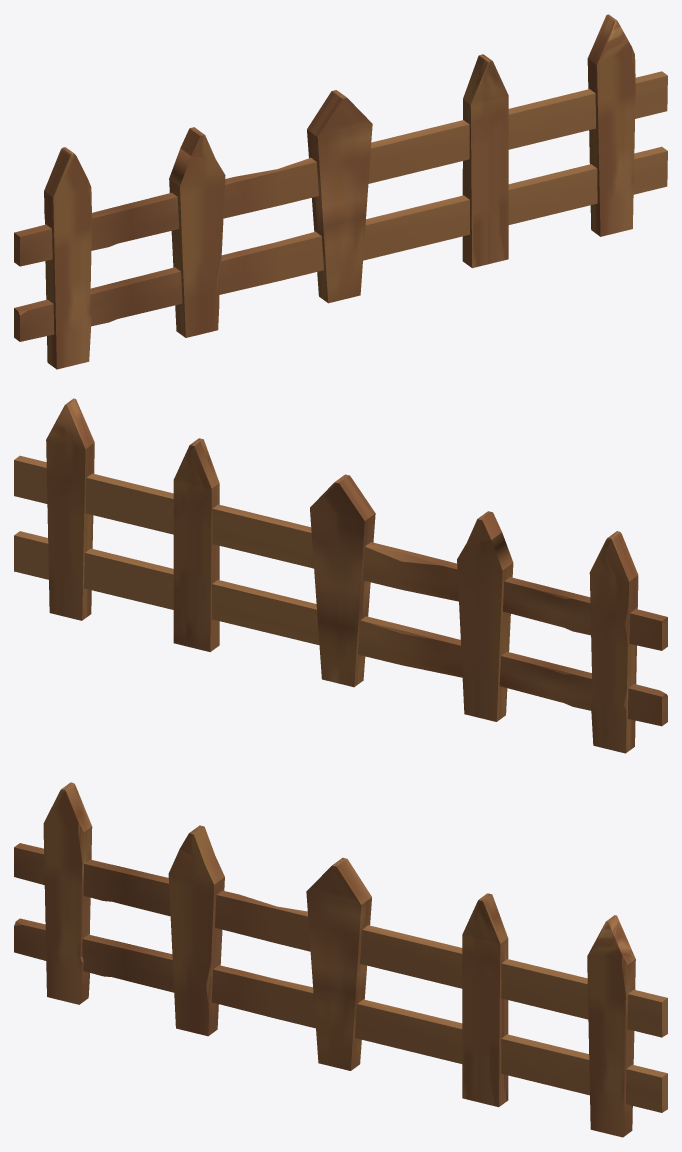
Rendered from ARC0710080.fbx.
The picture shows the model from 3 angles, top to bottom: view 1: azimuth 30°, elevation 25°; view 2: azimuth 150°, elevation 25°; view 3: azimuth 330°, elevation 25°; orthographic projection.
Visible parts, largest first — view 1: smARC0710080; view 2: smARC0710080; view 3: smARC0710080.
Boxes of the visible parts, <box> form: smARC0710080: <box>14,14,667,369</box>; smARC0710080: <box>14,398,667,753</box>; smARC0710080: <box>14,782,667,1137</box>.
Size of the model in its own units: 357 by 112 by 10.71.
Materials: 1 (1 with a texture image).
